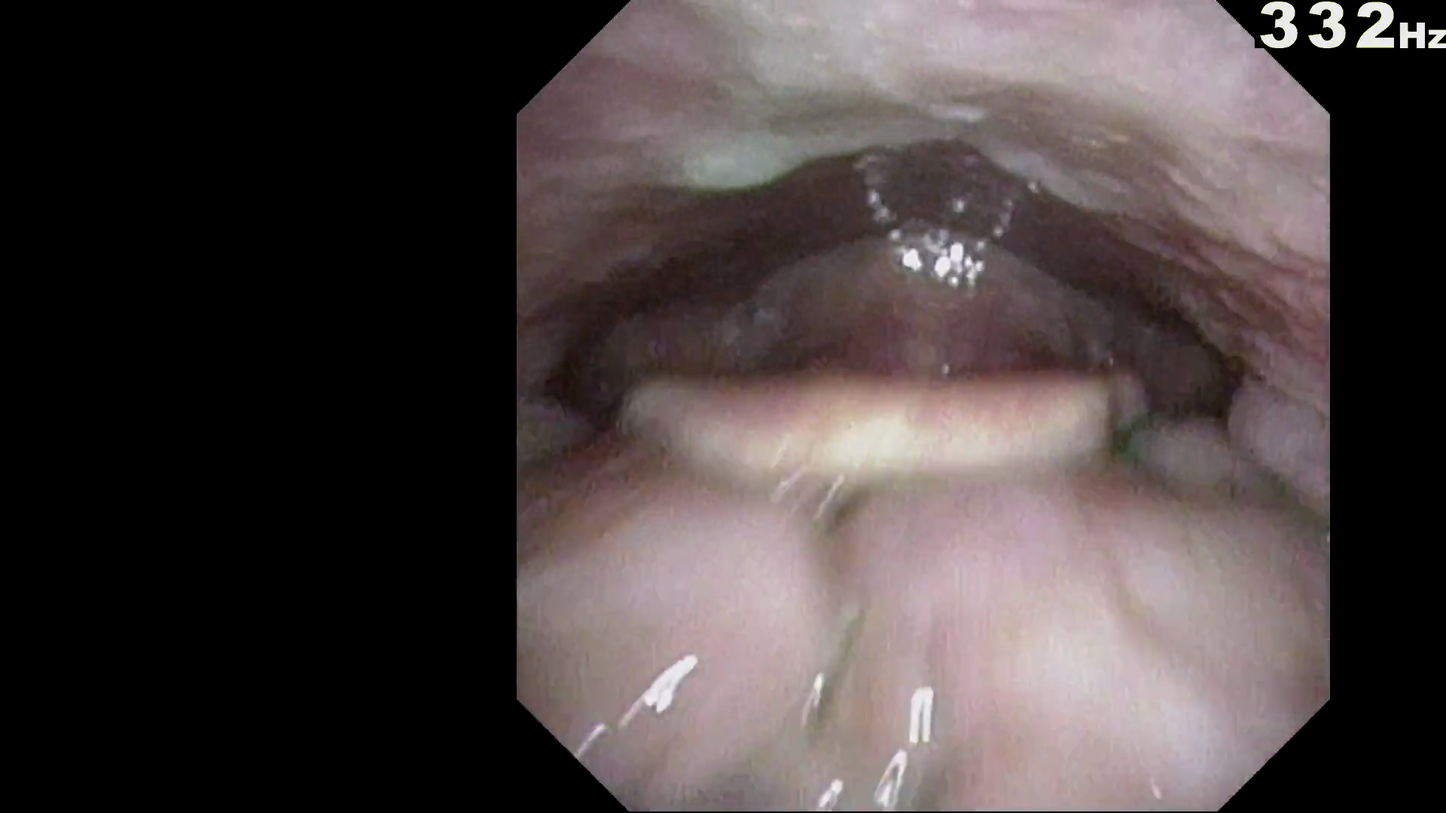epiglottis: (604, 360, 1217, 520)
